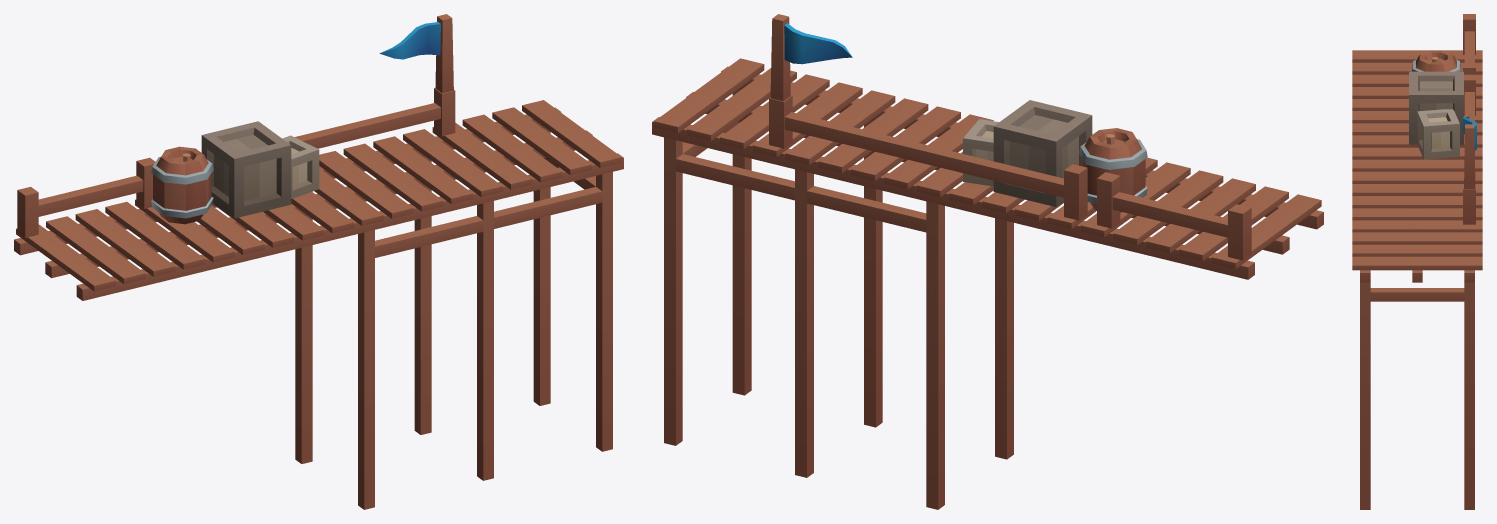
The model's file is building_docks_blue.glb.
The picture shows the model from 3 angles, left to right: view 1: azimuth 30°, elevation 25°; view 2: azimuth 150°, elevation 25°; view 3: azimuth 270°, elevation 25°; orthographic projection. The views are drawn at different scales.
Parts seen in each view (by area): view 1: building_docks_blue; view 2: building_docks_blue; view 3: building_docks_blue.
Part boxes in pixels (x1,y1,x2,y2): building_docks_blue: (14, 14, 623, 509); building_docks_blue: (652, 14, 1323, 509); building_docks_blue: (1352, 14, 1482, 509).
Size of the model in its own units: 2 by 1.44 by 0.5001.
1 material, 1 textured.
